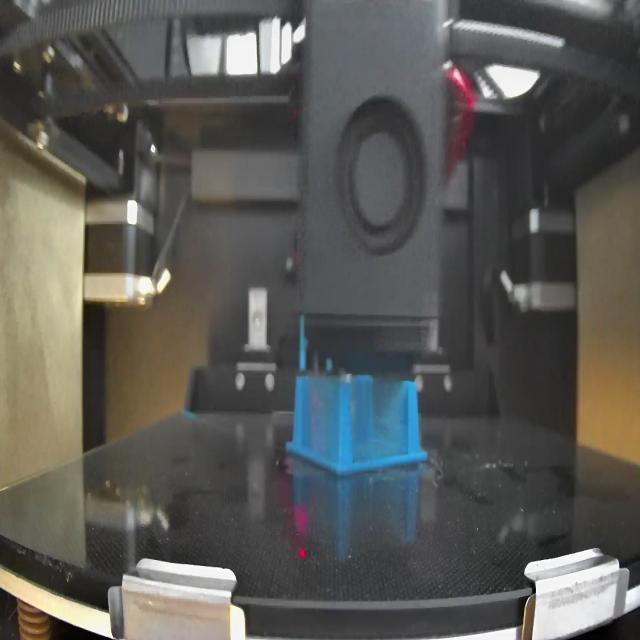stringing: (352, 384, 410, 467), (302, 382, 338, 458)
